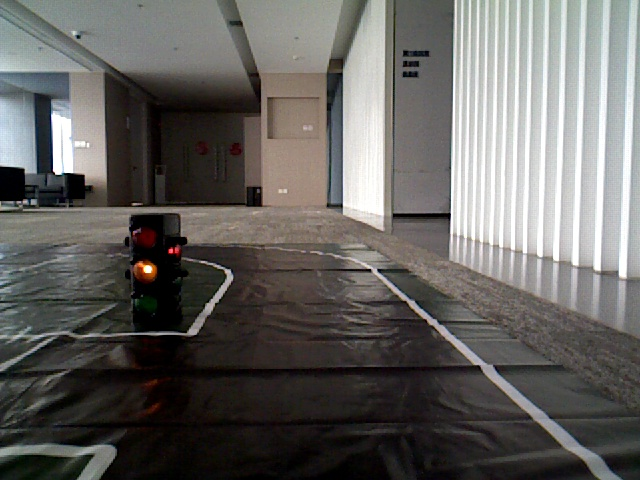yellow: (130, 216, 169, 318)
